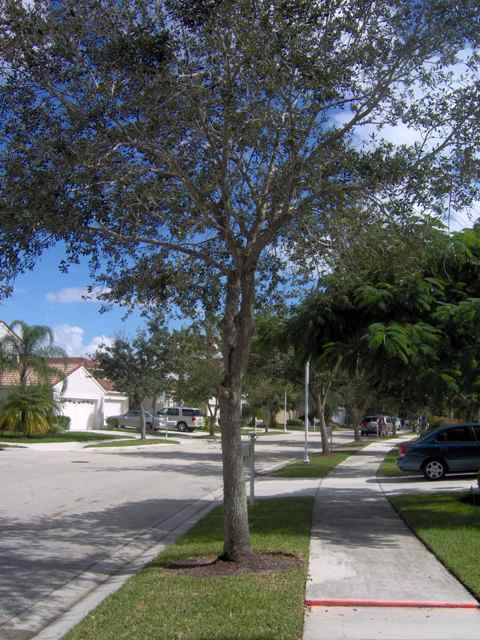tree: (5, 3, 477, 570)
